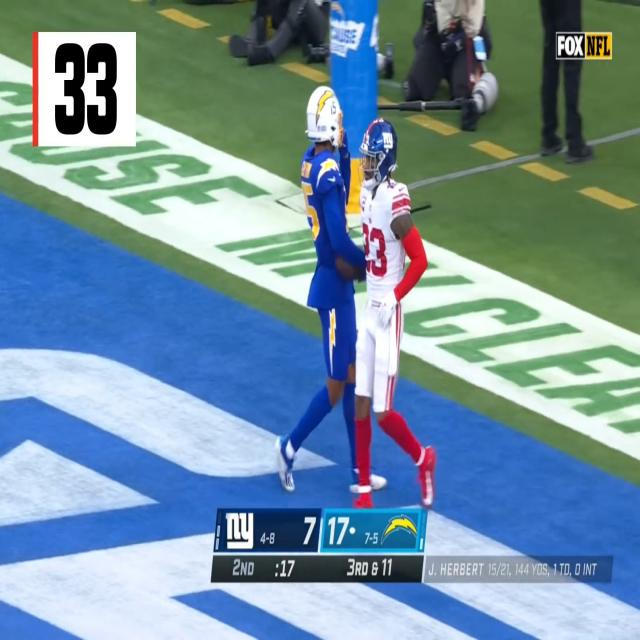football: (336, 248, 368, 279)
players: (274, 86, 387, 494), (353, 118, 436, 510)
